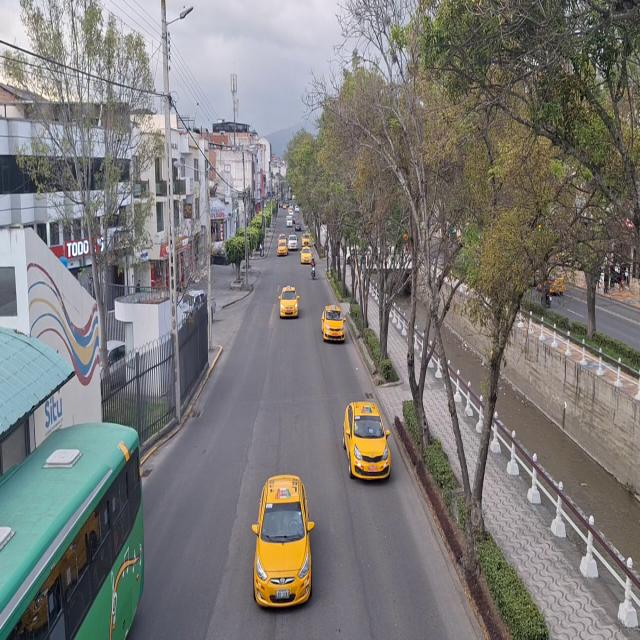BUS: (0, 437, 135, 640)
MOTORCYCLE: (311, 265, 316, 280)
SED: (254, 479, 311, 609), (345, 405, 389, 483)
